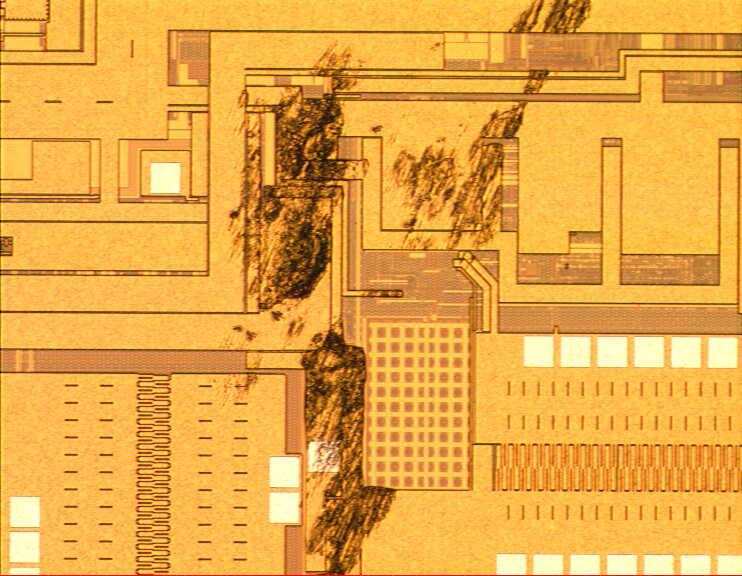SCRATCH: (205, 1, 597, 576)
